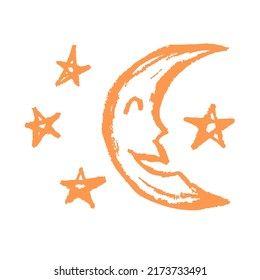moon: (100, 41, 232, 212)
star: (180, 102, 236, 148), (59, 167, 108, 208), (25, 105, 65, 148), (53, 44, 90, 87)
